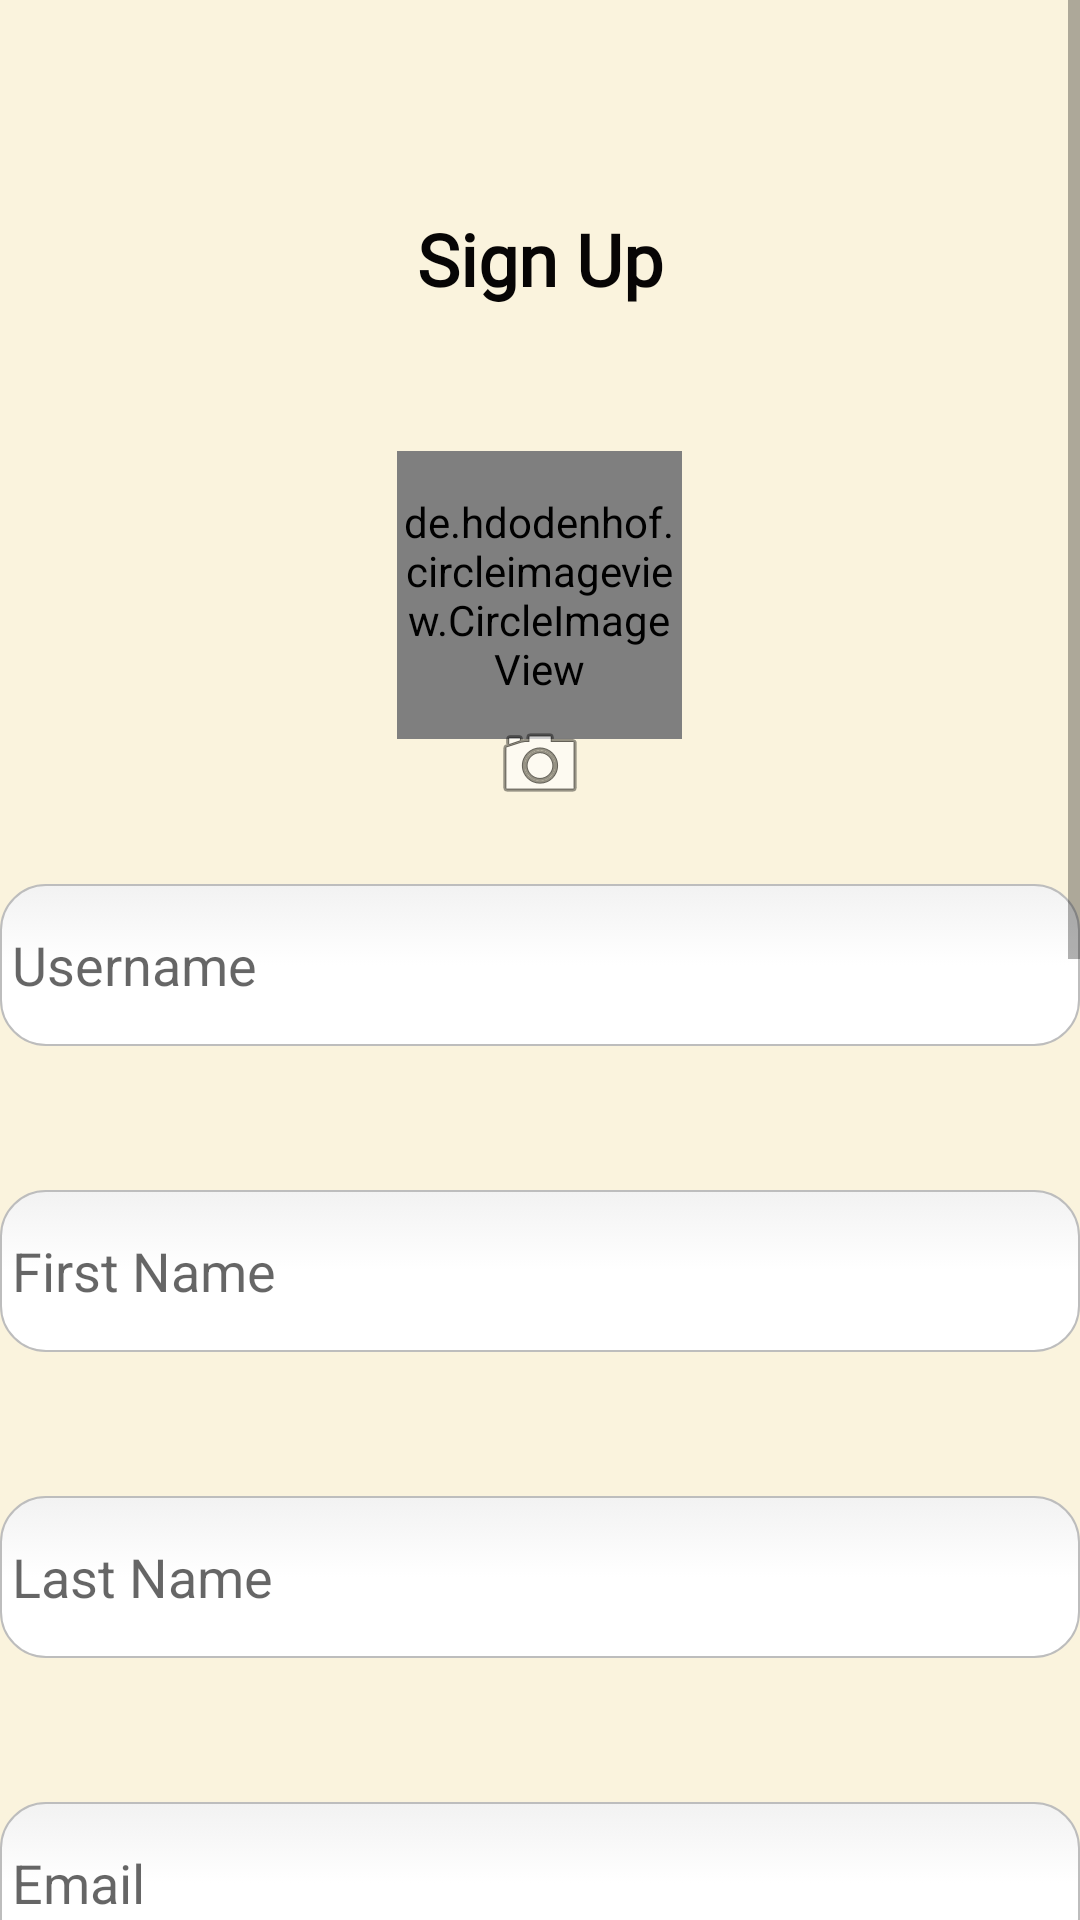

Screen size 1080px×1920px. Icon name, then its center in pixels as (x=x, y=y):
camera: (x=540, y=754)
